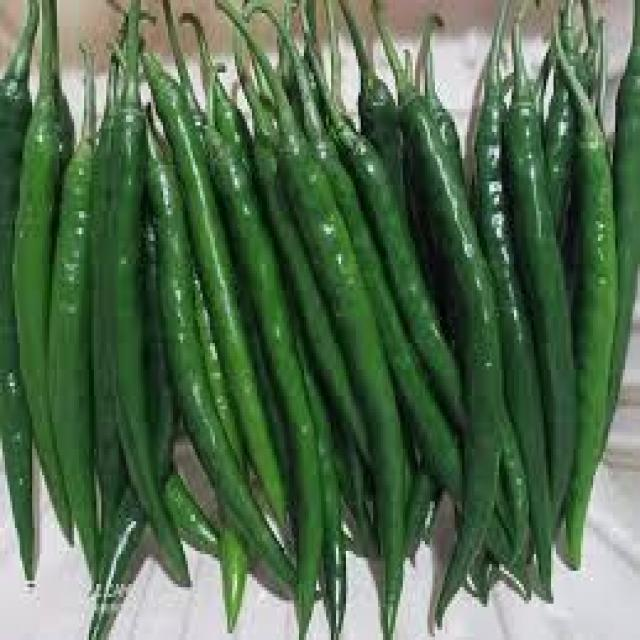green chilli: (218, 2, 403, 620), (372, 6, 503, 624), (112, 0, 188, 587), (551, 17, 618, 569), (509, 4, 572, 539)
